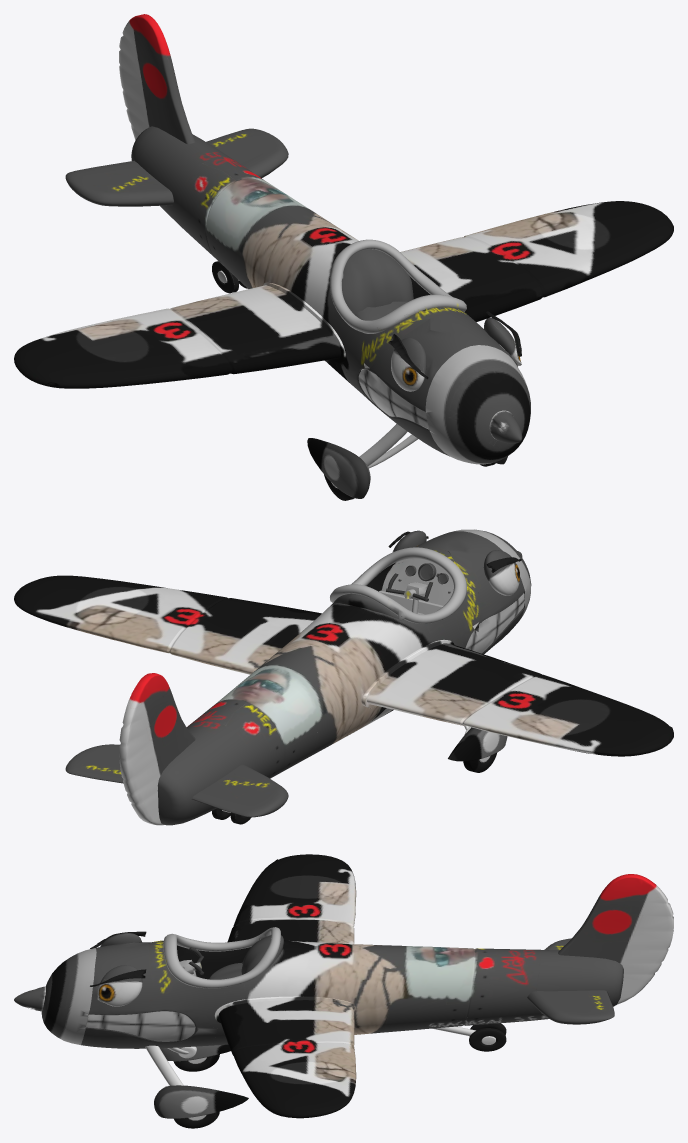
Rendered from AVION PROYECTO AML333 paviza super.glb.
The picture shows the model from 3 angles, top to bottom: view 1: azimuth 30°, elevation 25°; view 2: azimuth 150°, elevation 25°; view 3: azimuth 270°, elevation 25°; orthographic projection. The views are drawn at different scales.
Visible parts, largest first — view 1: node_id284; view 2: node_id284; view 3: node_id284.
Part boxes in pixels (x1,y1,x2,y2): node_id284: [14, 14, 673, 500]; node_id284: [14, 529, 673, 825]; node_id284: [14, 854, 673, 1128].
Bounding box in the file's own units: 0.5113 × 0.2048 × 0.5476.
1 material, 1 textured.
